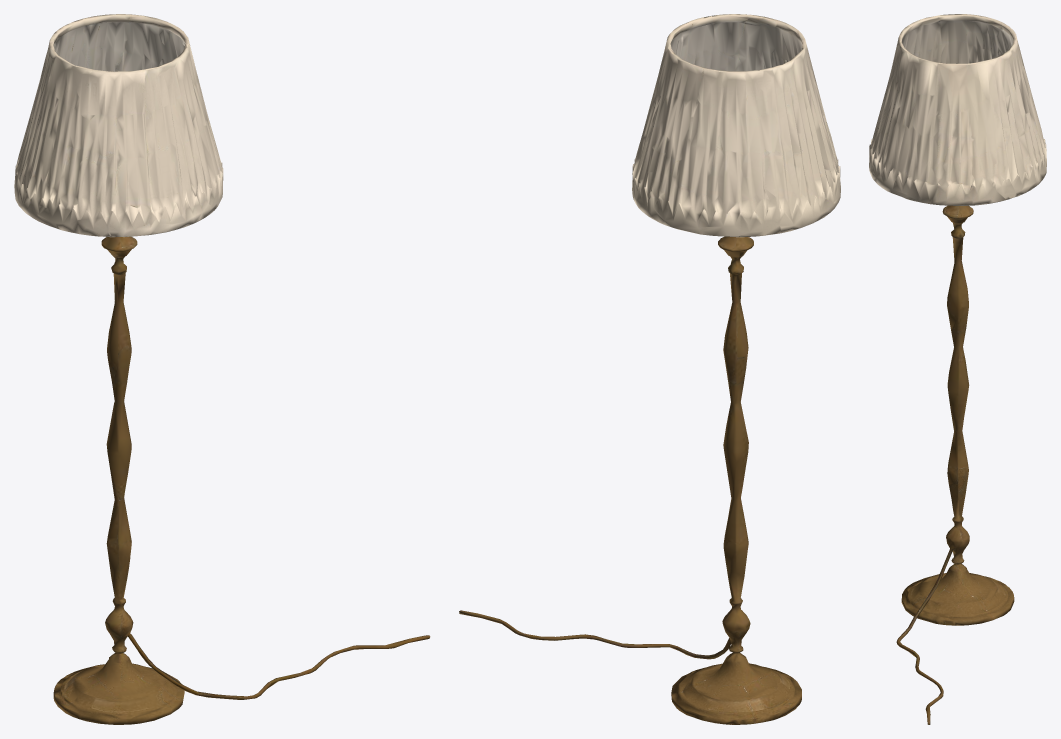
The model's file is floorLamp.glb.
3 renders of one model, left to right at view 1: azimuth 30°, elevation 25°; view 2: azimuth 150°, elevation 25°; view 3: azimuth 270°, elevation 25°, orthographic. The views are drawn at different scales.
Bounding box in the file's own units: 1.17 × 1.9 × 0.545.
1 material, 1 textured.
